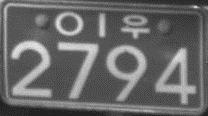0: (54, 10, 84, 36)
1: (91, 11, 112, 38)
2: (10, 40, 52, 97)
4: (155, 47, 196, 105)
7: (57, 41, 100, 98)
9: (105, 43, 147, 101)
우: (120, 13, 150, 39)
